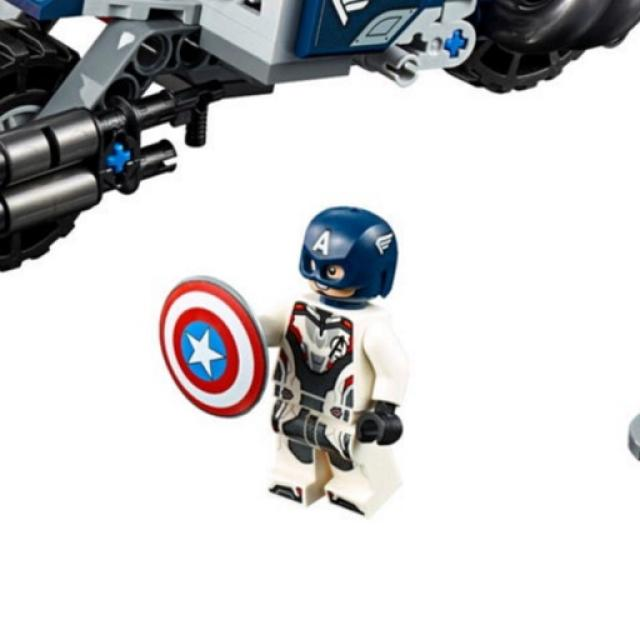Lego-Minifigures: (155, 192, 477, 548)
